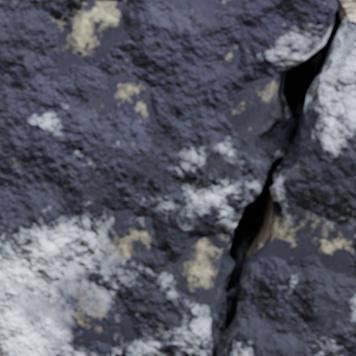broken_brick: (0, 0, 337, 355), (219, 31, 355, 355), (348, 20, 355, 27)
crack: (208, 1, 355, 355)
